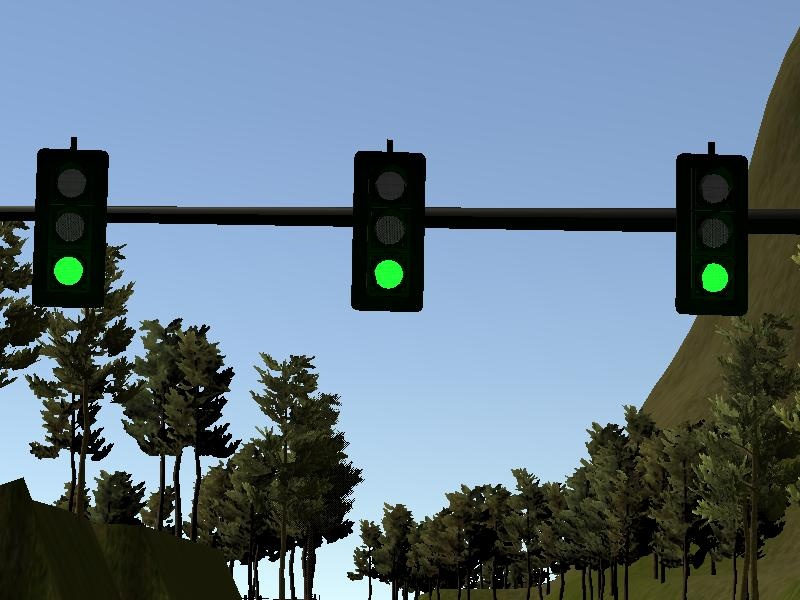traffic_light_green: (23, 137, 789, 315)
